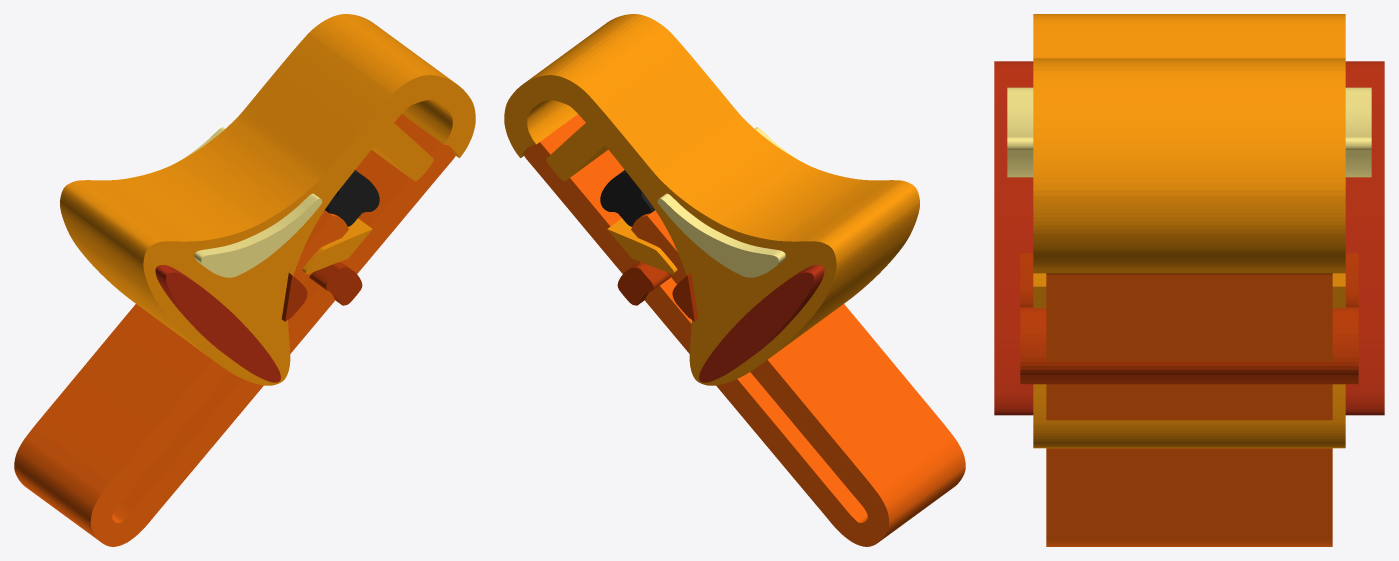
3 views of the same model, side by side, from view 1: azimuth 30°, elevation 25°; view 2: azimuth 150°, elevation 25°; view 3: azimuth 270°, elevation 25° (orthographic). The views are drawn at different scales.
Parts seen in each view (by area): view 1: U+1FA8A_layer02_obj02, U+1FA8A_layer01_obj00, U+1FA8A_layer05_obj00, U+1FA8A_layer04_obj00, U+1FA8A_layer02_obj01, U+1FA8A_layer00_obj00, U+1FA8A_layer02_obj00, U+1FA8A_layer03_obj00, U+1FA8A_layer03_obj01; view 2: U+1FA8A_layer02_obj02, U+1FA8A_layer01_obj00, U+1FA8A_layer05_obj00, U+1FA8A_layer04_obj00, U+1FA8A_layer02_obj01, U+1FA8A_layer00_obj00, U+1FA8A_layer02_obj00, U+1FA8A_layer03_obj00, U+1FA8A_layer03_obj01; view 3: U+1FA8A_layer02_obj02, U+1FA8A_layer01_obj00, U+1FA8A_layer05_obj00, U+1FA8A_layer03_obj00, U+1FA8A_layer04_obj00, U+1FA8A_layer03_obj01, U+1FA8A_layer02_obj00.
Boxes of the visible parts, left/top/right/bottom form: U+1FA8A_layer02_obj02: left=60, top=14, right=475, bottom=385; U+1FA8A_layer01_obj00: left=14, top=114, right=455, bottom=546; U+1FA8A_layer05_obj00: left=155, top=265, right=280, bottom=382; U+1FA8A_layer04_obj00: left=176, top=127, right=322, bottom=277; U+1FA8A_layer02_obj01: left=371, top=120, right=433, bottom=181; U+1FA8A_layer00_obj00: left=325, top=170, right=379, bottom=226; U+1FA8A_layer02_obj00: left=302, top=218, right=372, bottom=274; U+1FA8A_layer03_obj00: left=309, top=262, right=362, bottom=305; U+1FA8A_layer03_obj01: left=281, top=273, right=307, bottom=321; U+1FA8A_layer02_obj02: left=504, top=14, right=919, bottom=385; U+1FA8A_layer01_obj00: left=524, top=114, right=965, bottom=546; U+1FA8A_layer05_obj00: left=699, top=265, right=824, bottom=382; U+1FA8A_layer04_obj00: left=657, top=127, right=803, bottom=277; U+1FA8A_layer02_obj01: left=546, top=120, right=608, bottom=181; U+1FA8A_layer00_obj00: left=600, top=170, right=654, bottom=226; U+1FA8A_layer02_obj00: left=607, top=218, right=677, bottom=274; U+1FA8A_layer03_obj00: left=617, top=262, right=670, bottom=305; U+1FA8A_layer03_obj01: left=672, top=273, right=698, bottom=321; U+1FA8A_layer02_obj02: left=1033, top=14, right=1345, bottom=448; U+1FA8A_layer01_obj00: left=1046, top=273, right=1332, bottom=546; U+1FA8A_layer05_obj00: left=994, top=61, right=1384, bottom=415; U+1FA8A_layer03_obj00: left=1020, top=307, right=1358, bottom=384; U+1FA8A_layer04_obj00: left=1007, top=87, right=1371, bottom=177; U+1FA8A_layer03_obj01: left=1020, top=253, right=1358, bottom=306; U+1FA8A_layer02_obj00: left=1033, top=273, right=1345, bottom=308.
Size of the model in its own units: 0.3166 by 0.3167 by 0.15.
